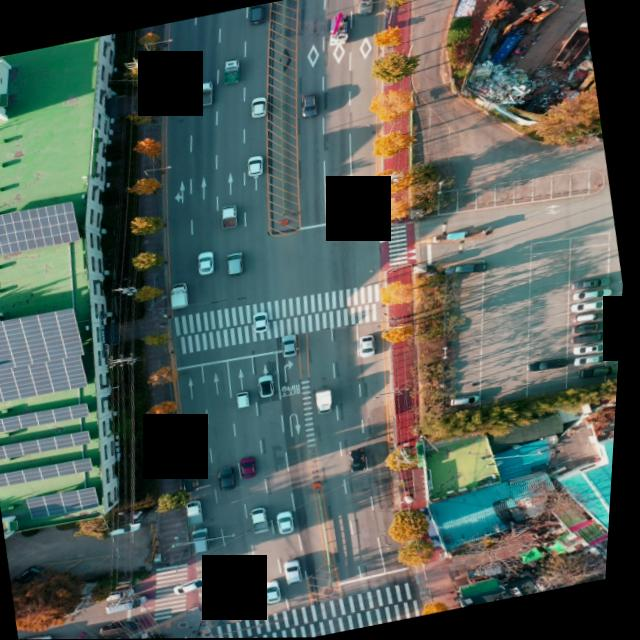car: (175, 571, 229, 598), (444, 257, 498, 282), (110, 594, 156, 615), (195, 525, 224, 557), (574, 350, 622, 369), (529, 356, 574, 376), (573, 318, 619, 337), (573, 285, 619, 304), (109, 519, 150, 540), (573, 329, 620, 347), (219, 464, 247, 494), (572, 274, 618, 292), (575, 297, 618, 316), (225, 249, 253, 278), (258, 370, 285, 400), (577, 340, 621, 358), (252, 308, 280, 336), (196, 249, 224, 277), (278, 508, 306, 536), (298, 90, 325, 119), (242, 3, 272, 29), (583, 363, 623, 382), (351, 446, 378, 474), (281, 331, 307, 359), (243, 153, 271, 179), (287, 558, 313, 586), (358, 333, 385, 359), (267, 578, 293, 605), (247, 94, 273, 120), (243, 453, 268, 479), (575, 309, 614, 325), (449, 393, 489, 408), (109, 587, 147, 602), (26, 630, 64, 640), (239, 390, 257, 408)
medium_truck: (545, 20, 596, 73)
small_truck: (325, 12, 356, 47), (104, 618, 150, 638), (169, 280, 197, 312), (187, 497, 215, 527), (183, 467, 209, 494), (255, 504, 279, 533), (318, 386, 342, 415), (220, 203, 244, 230), (195, 80, 218, 107), (222, 57, 245, 84), (354, 0, 378, 15)
